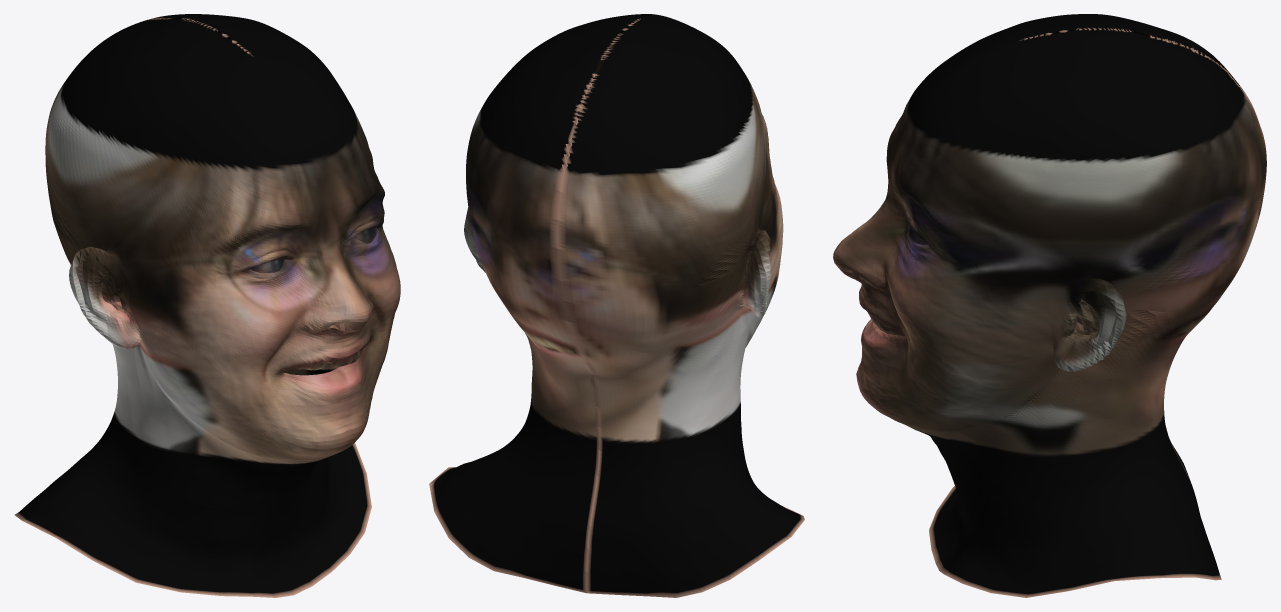
File: mesh_coarse_detail.obj
The picture shows the model from 3 angles, left to right: view 1: azimuth 30°, elevation 25°; view 2: azimuth 150°, elevation 25°; view 3: azimuth 270°, elevation 25°; orthographic projection. The views are drawn at different scales.
Bounding box in the file's own units: 0.2137 × 0.3116 × 0.231.
